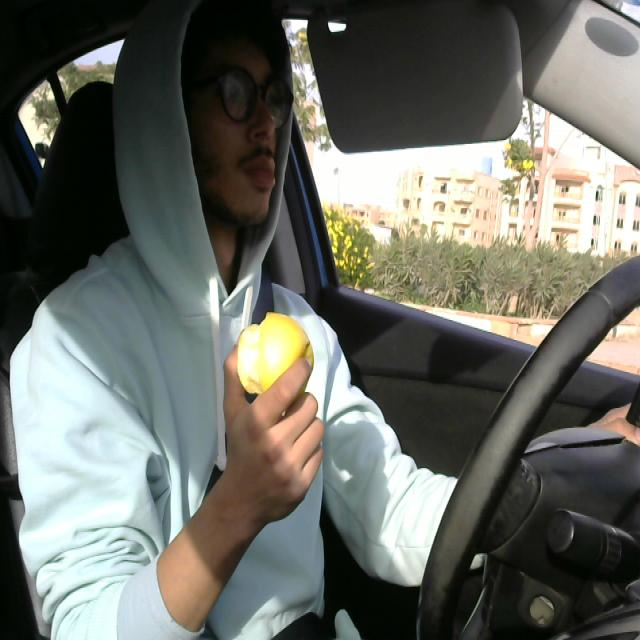eating: (232, 305, 316, 405)
